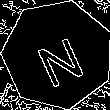N_NW: (29, 24, 86, 86)
